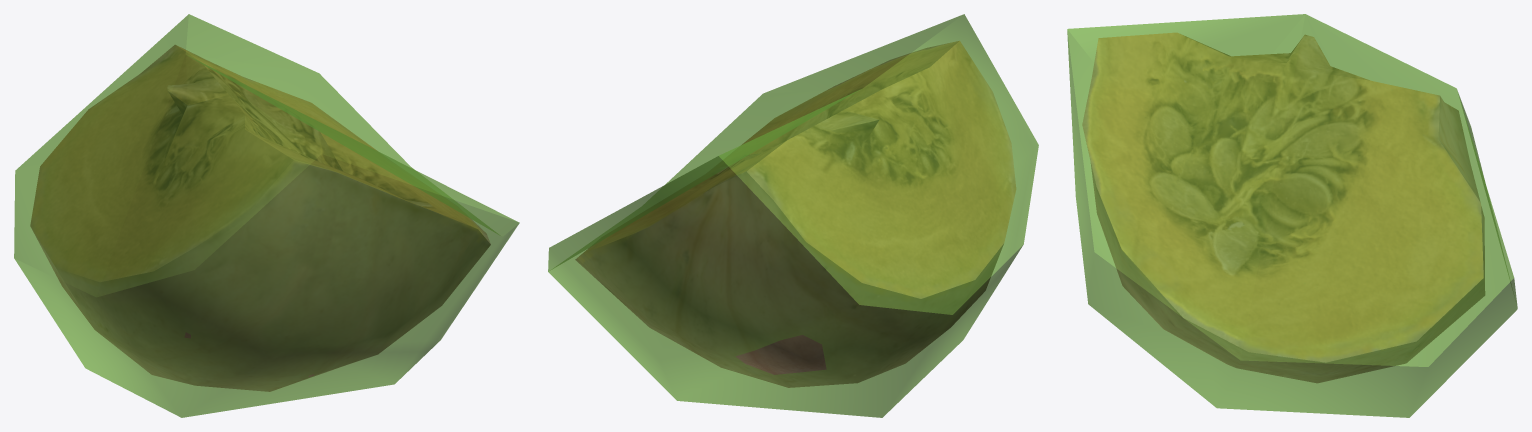
File: pg_Pumpkin_02.fbx
3 views of the same model, side by side, from view 1: azimuth 30°, elevation 25°; view 2: azimuth 150°, elevation 25°; view 3: azimuth 270°, elevation 25° (orthographic). The views are drawn at different scales.
Parts seen in each view (by area): view 1: pg_Pumpkin_02_a_col, pg_Pumpkin_02_a_LOD0; view 2: pg_Pumpkin_02_a_col, pg_Pumpkin_02_a_LOD0; view 3: pg_Pumpkin_02_a_col, pg_Pumpkin_02_a_LOD0.
Part boxes in pixels (left/top/right/bottom): pg_Pumpkin_02_a_col: left=14, top=14, right=519, bottom=417; pg_Pumpkin_02_a_LOD0: left=30, top=45, right=490, bottom=391; pg_Pumpkin_02_a_col: left=548, top=14, right=1038, bottom=417; pg_Pumpkin_02_a_LOD0: left=575, top=41, right=1016, bottom=387; pg_Pumpkin_02_a_col: left=1067, top=14, right=1517, bottom=417; pg_Pumpkin_02_a_LOD0: left=1082, top=32, right=1485, bottom=383.
Size of what is drawn, in the model's own units: 23.97 by 18.78 by 23.08.
